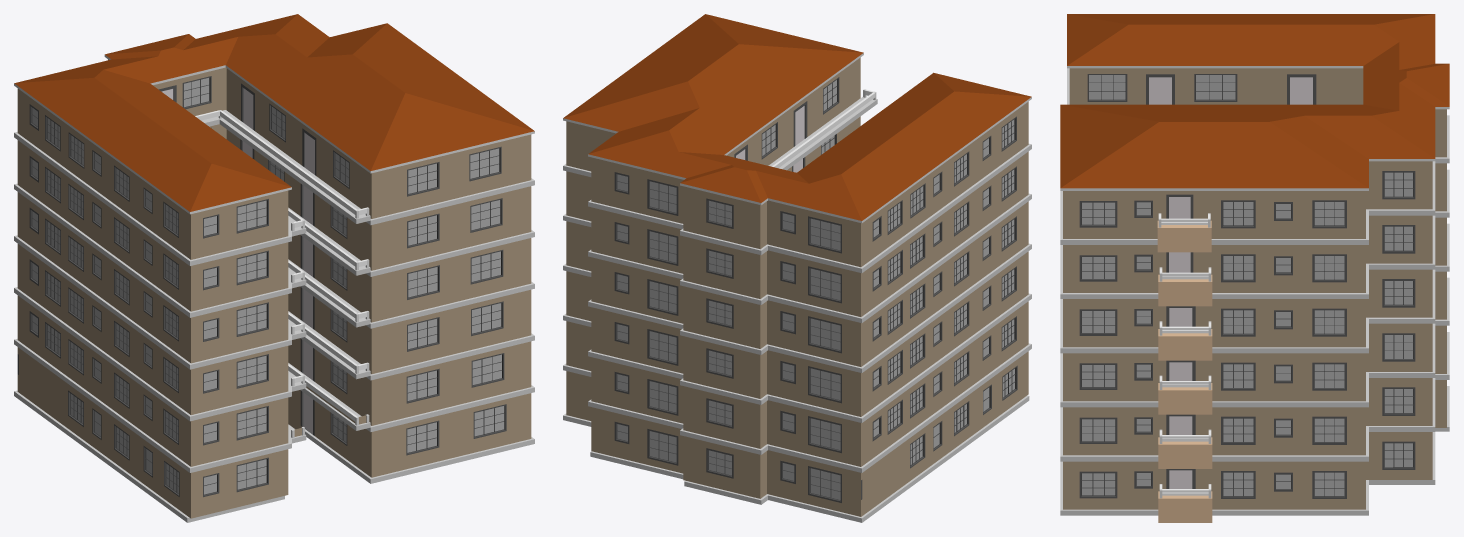
Rendered from Apartment 1.fbx.
3 renders of one model, left to right at view 1: azimuth 30°, elevation 25°; view 2: azimuth 150°, elevation 25°; view 3: azimuth 270°, elevation 25°, orthographic. The views are drawn at different scales.
Visible parts, largest first — view 1: building_003; view 2: building_003; view 3: building_003.
Part boxes in pixels (x1,y1,x2,y2): building_003: (14,14,534,522); building_003: (563,14,1031,522); building_003: (1060,14,1449,522).
Bounding box in the file's own units: 1584 × 1430 × 1435.
